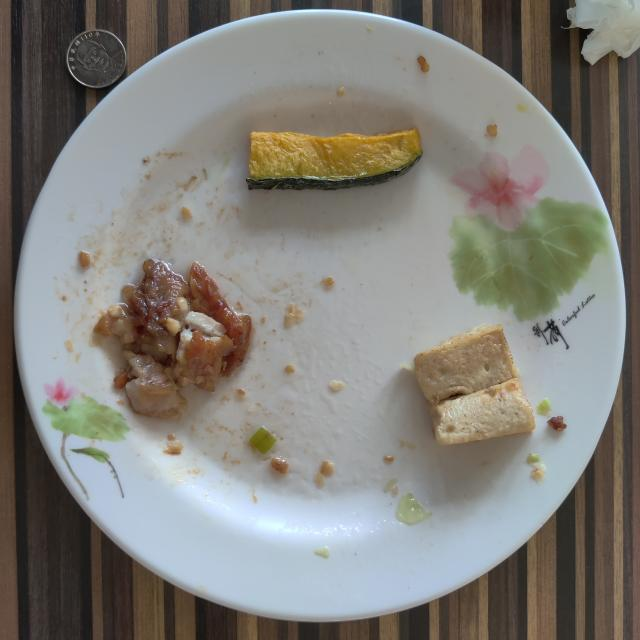Kabayaki sea bream fillet: (94, 259, 251, 419)
coin: (66, 29, 126, 89)
creamy tofu -without sauce-: (414, 324, 535, 445)
pumpkin: (246, 128, 422, 190)
